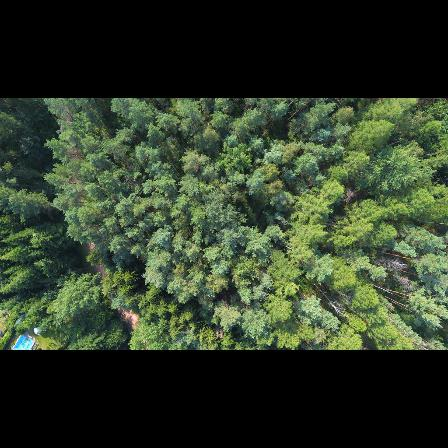Dead: (374, 254, 412, 272), (325, 296, 349, 318)
